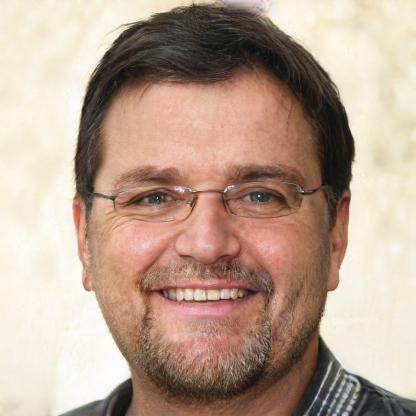glasses: (98, 179, 324, 223)
